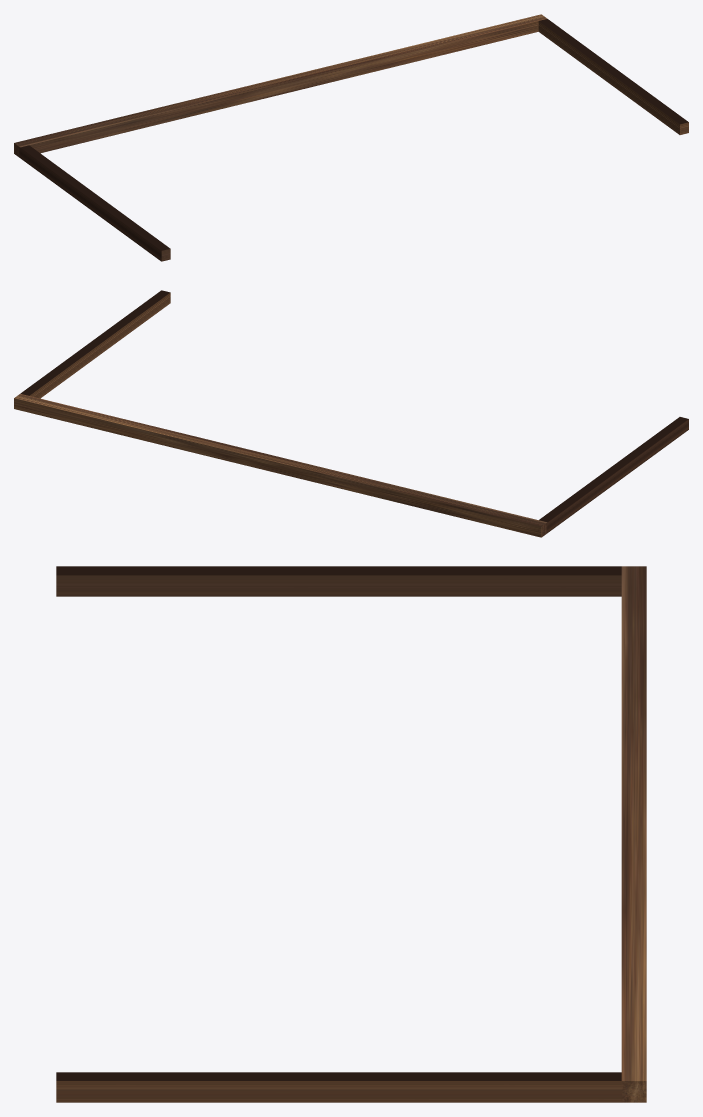
The model's file is curtain_holder.fbx.
3 renders of one model, top to bottom at view 1: azimuth 30°, elevation 25°; view 2: azimuth 150°, elevation 25°; view 3: azimuth 270°, elevation 25°, orthographic. The views are drawn at different scales.
Visible parts, largest first — view 1: apoio; view 2: apoio; view 3: apoio.
Part boxes in pixels (<box>): apoio: <box>14,14,688,261</box>; apoio: <box>14,290,688,537</box>; apoio: <box>56,566,646,1102</box>.
Size of the model in its own units: 320 by 6.24 by 155.
Materials: 1 (1 with a texture image).
